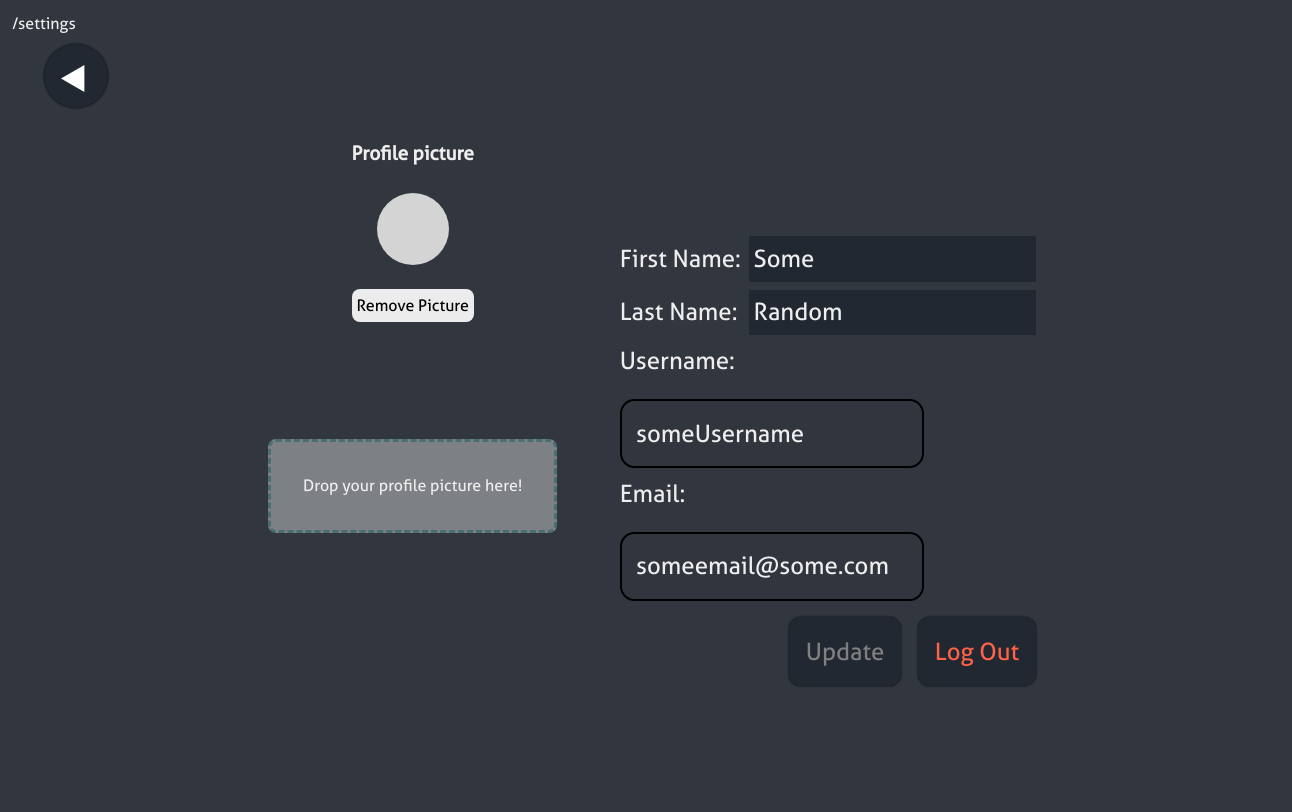
Test: <Settings> › validation › validates username
Click the field named "Username input" at (772, 434), box [620,399,924,468]
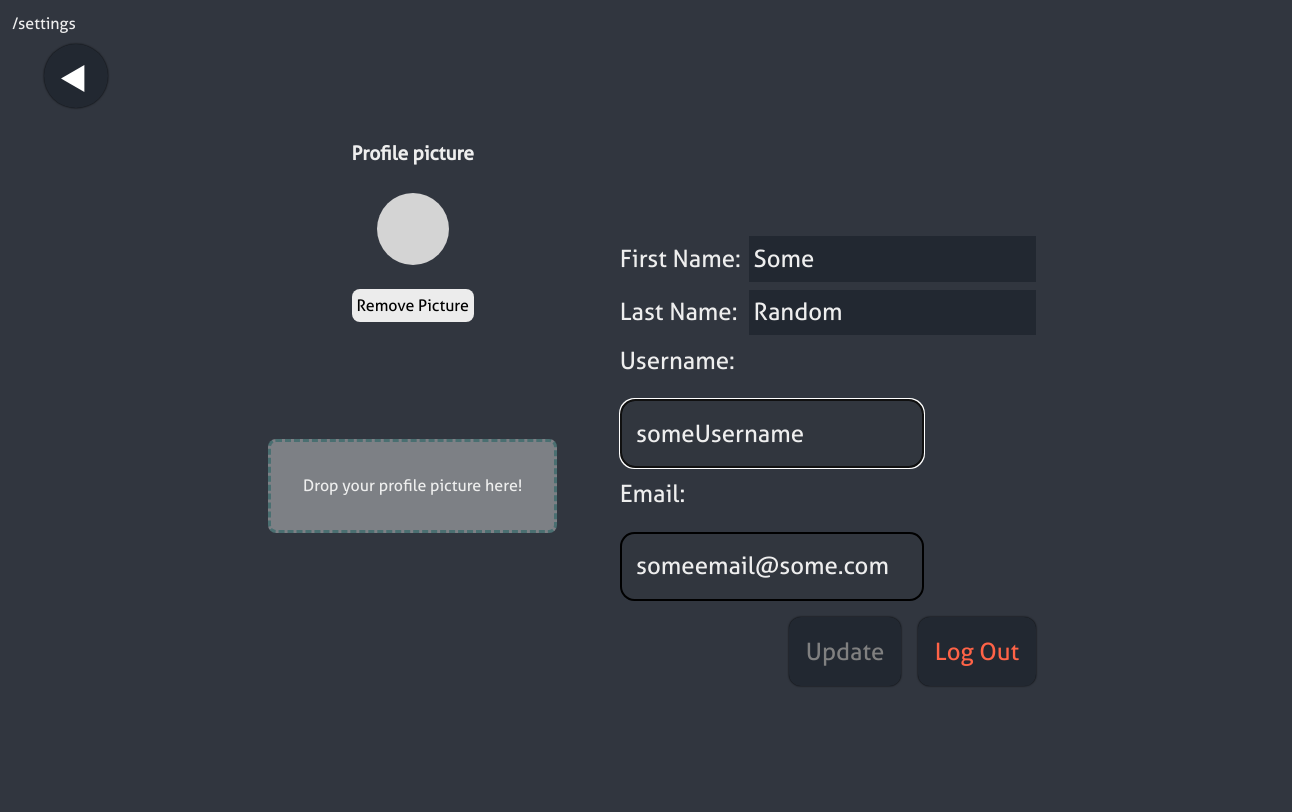
Press Backspace Backspace Backspace {Backsp
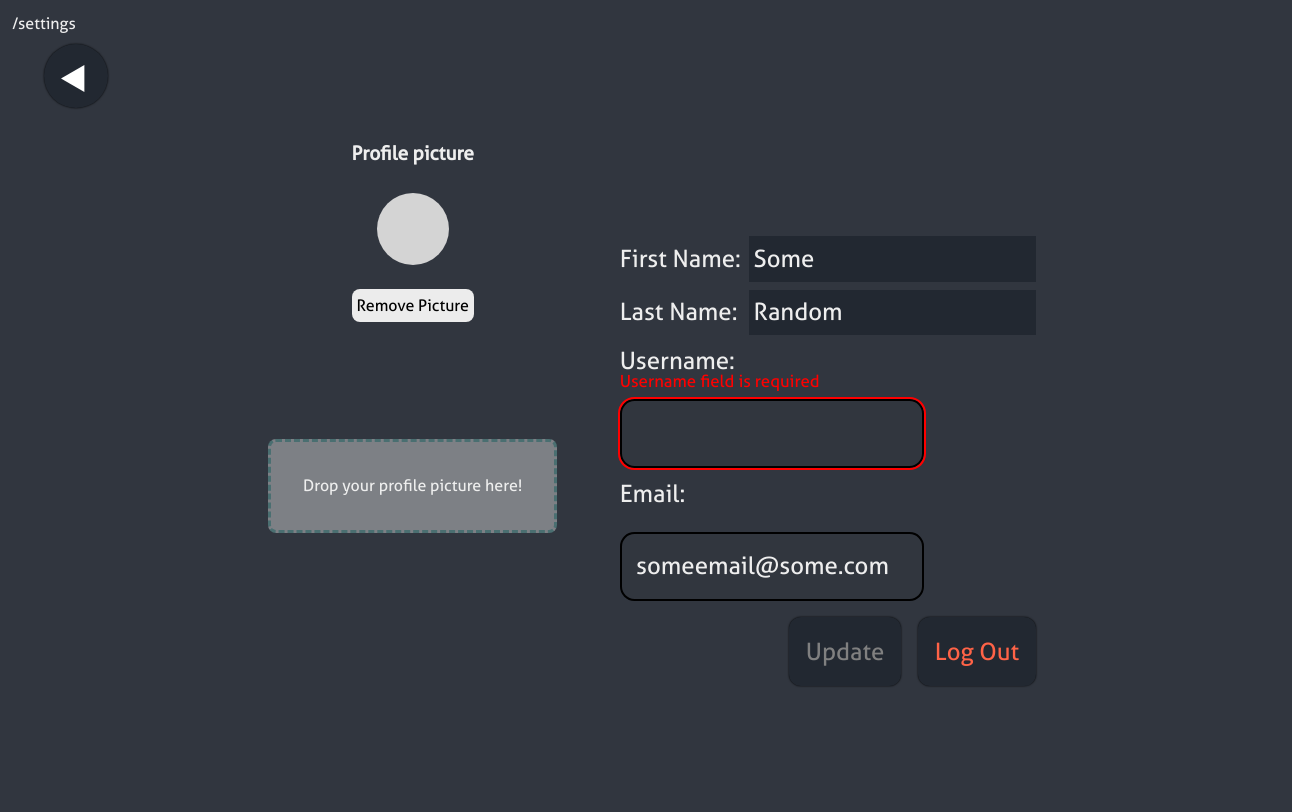
Now the text named "Username input error" reads "Username field is required", box [620,371,820,392]
# representing non ascii character
Type keys "ć"
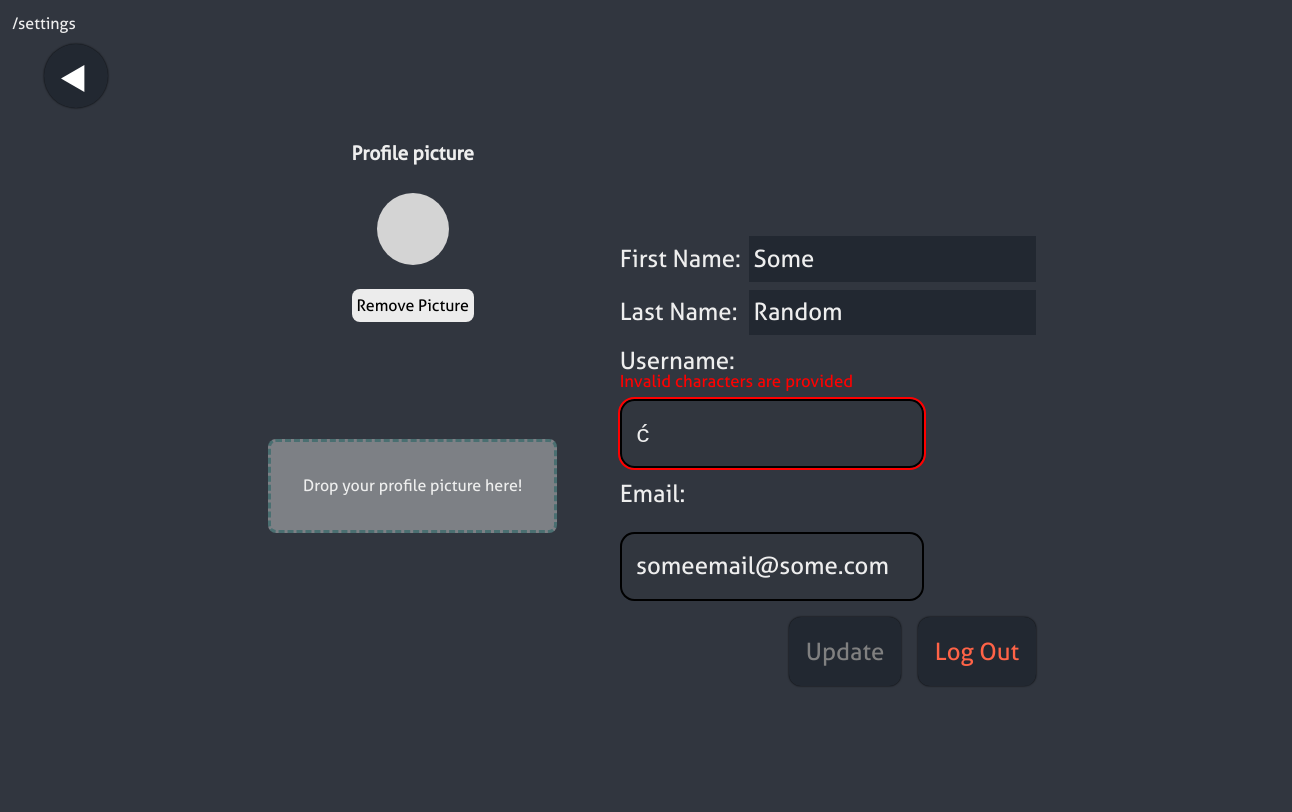
Now the text named "Username input error" reads "Invalid characters are provided", box [620,371,853,392]
